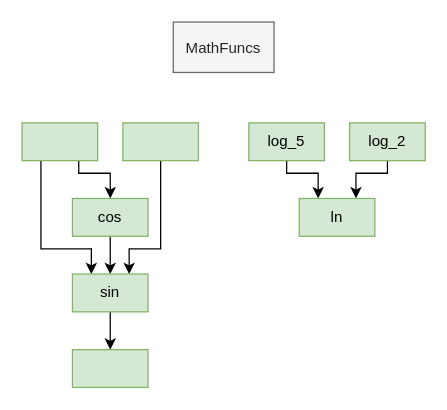
Image size: 447x410. Some labels were removed from this diagram. Each missing label, with the centre of its shape:
"cot" goes at point 59,141.
"csc" goes at point 160,141.
"factorial" goes at point 109,367.
